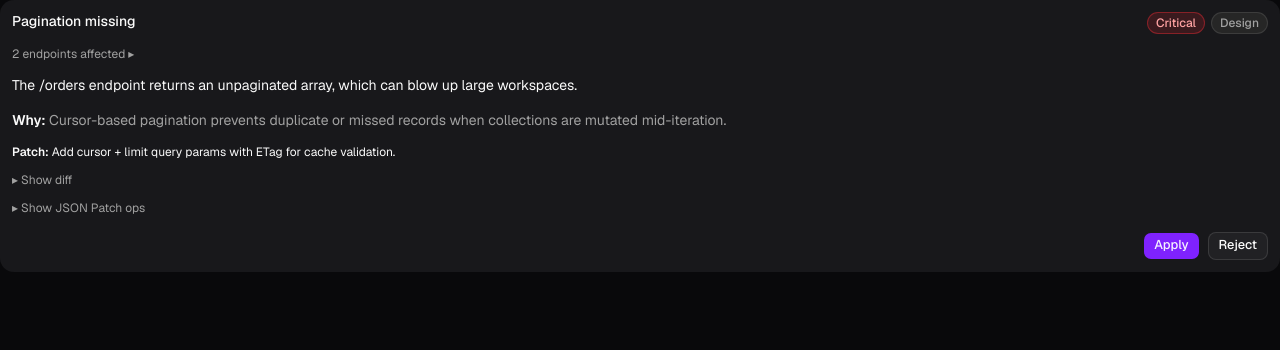
Test case: FindingCard — toggles › "Show JSON Patch ops" toggle reveals the table
Click the button "▸ Show JSON Patch ops". click: (79, 208)
box: x1=12 y1=200 x2=145 y2=216
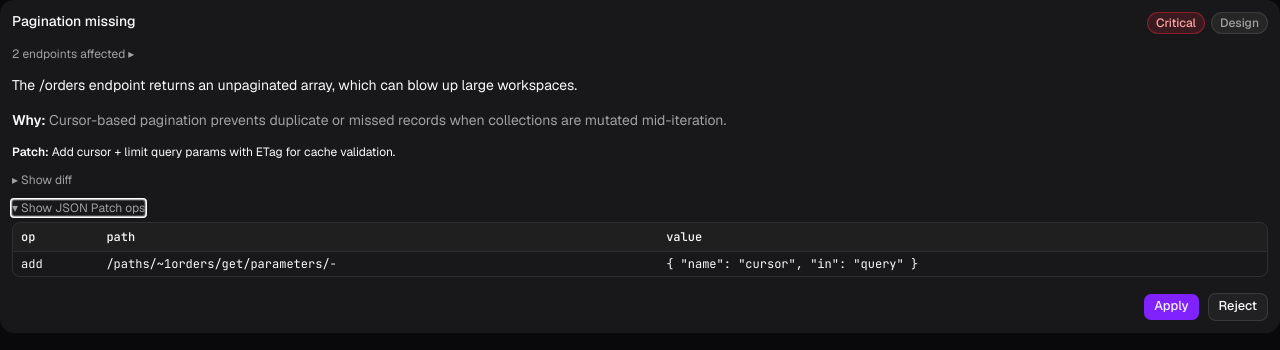
Result: the button "▾ Show JSON Patch ops" is expanded at x1=12 y1=200 x2=145 y2=216
Result: the table is shown at x1=13 y1=222 x2=1267 y2=276
Result: the column heading "op" is shown at x1=13 y1=222 x2=98 y2=251
